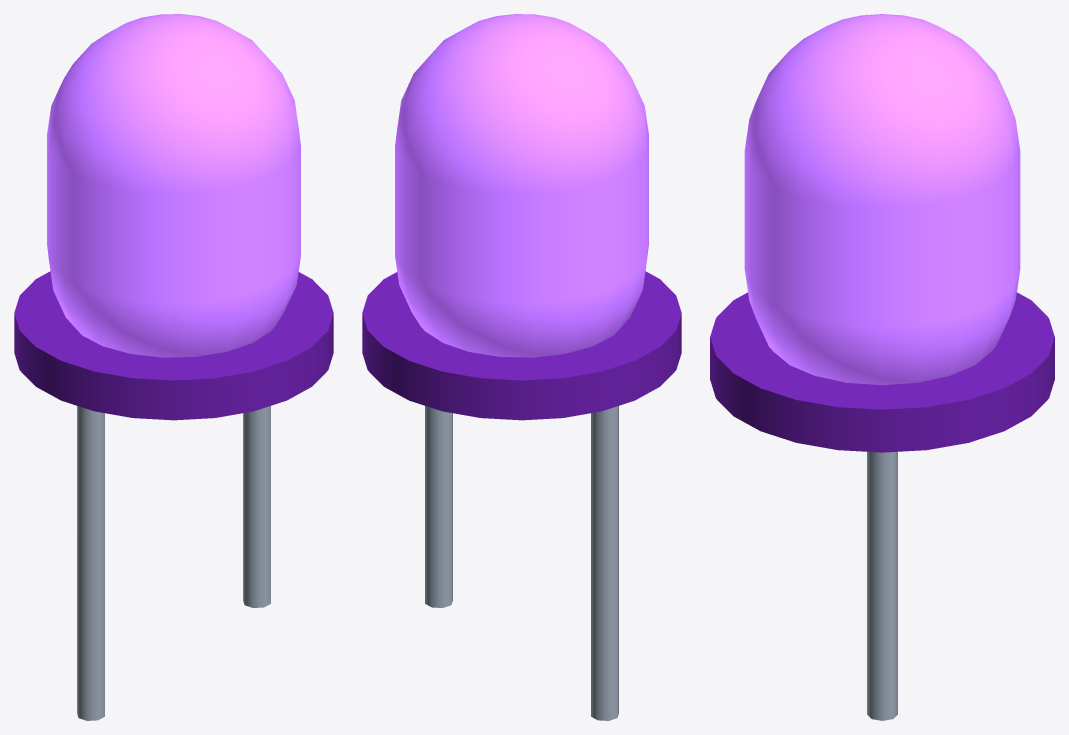
The model's file is led-purple.gltf.
The picture shows the model from 3 angles, left to right: view 1: azimuth 30°, elevation 25°; view 2: azimuth 150°, elevation 25°; view 3: azimuth 270°, elevation 25°; orthographic projection. The views are drawn at different scales.
Parts seen in each view (by area): view 1: lens, collar, anode, cathode; view 2: lens, collar, anode, cathode; view 3: lens, collar, cathode.
Part boxes in pixels (box(x1,y1,x2,y2)): lens: box(47, 14, 300, 357); collar: box(14, 271, 333, 420); anode: box(77, 406, 104, 720); cathode: box(243, 406, 270, 607); lens: box(395, 14, 648, 357); collar: box(362, 271, 681, 420); anode: box(591, 406, 618, 720); cathode: box(425, 406, 452, 607); lens: box(744, 14, 1020, 385); collar: box(710, 292, 1054, 452); cathode: box(867, 451, 897, 720).
Bounding box in the file's own units: 0.4 × 0.925 × 0.4.
